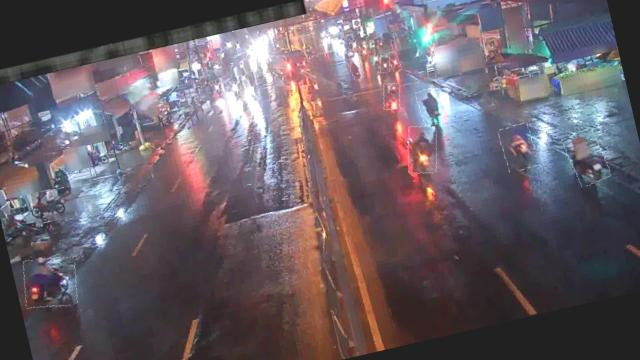Bike: (18, 252, 82, 314), (564, 127, 610, 188), (402, 122, 444, 178), (499, 122, 539, 173), (29, 184, 78, 224), (415, 86, 450, 128), (381, 82, 403, 111), (347, 56, 364, 80), (388, 50, 403, 74), (378, 52, 393, 74)
